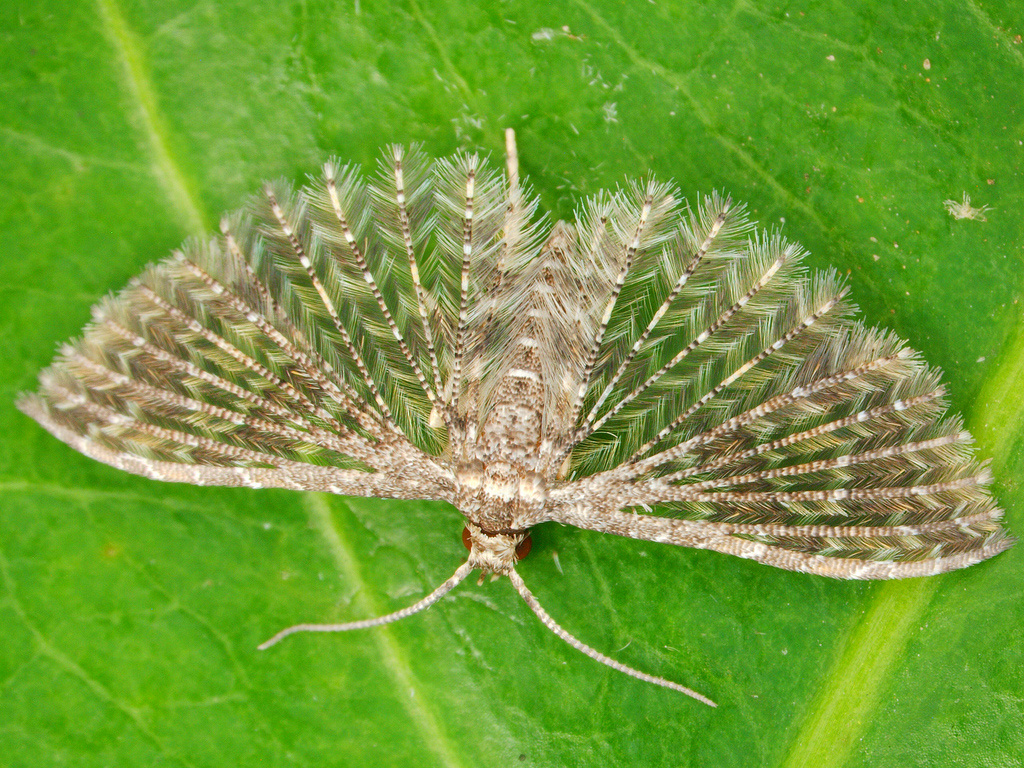Alucitidae: (13, 101, 1017, 725)
moth: (15, 103, 1019, 727)
